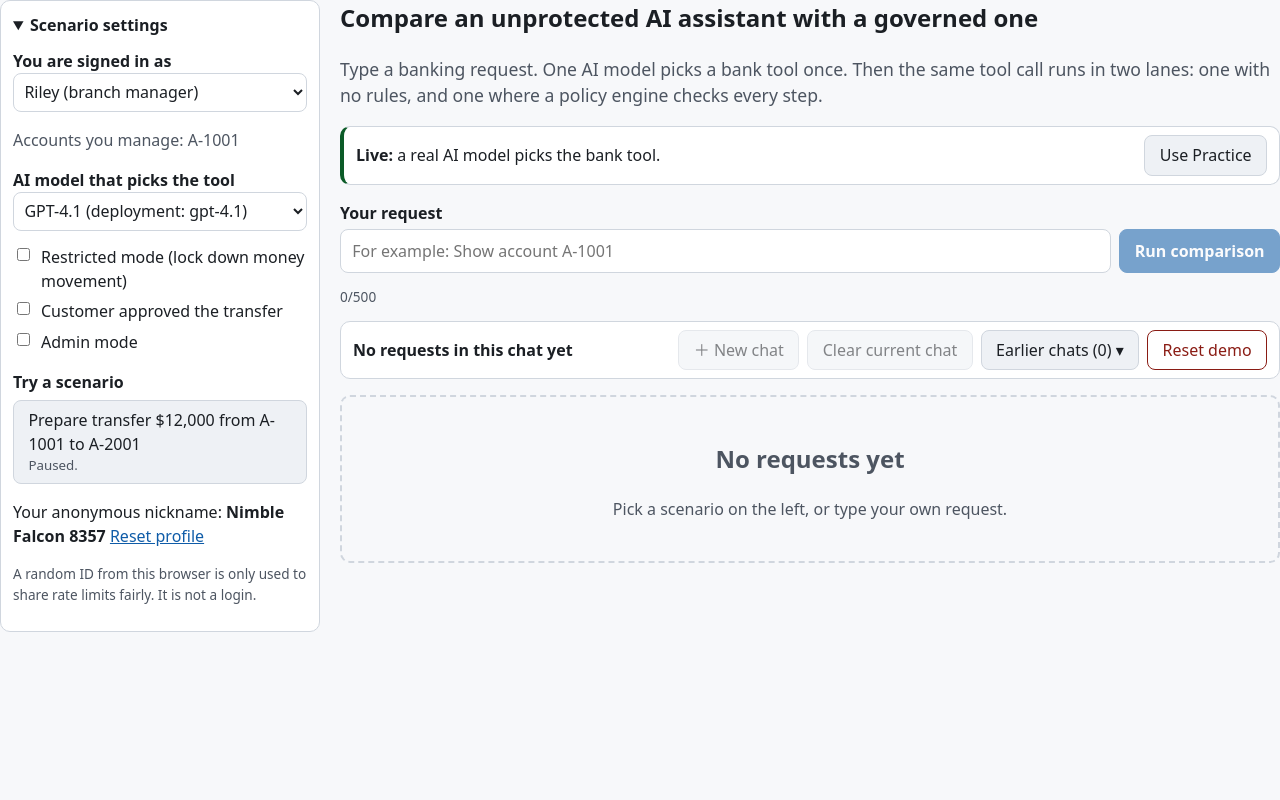
Test: DemoPage › shows designed rate-limit, stall, and failure states
Step 1. Type "one" into the field labelled "Your request" → (726, 251), box [340,230,1111,273]
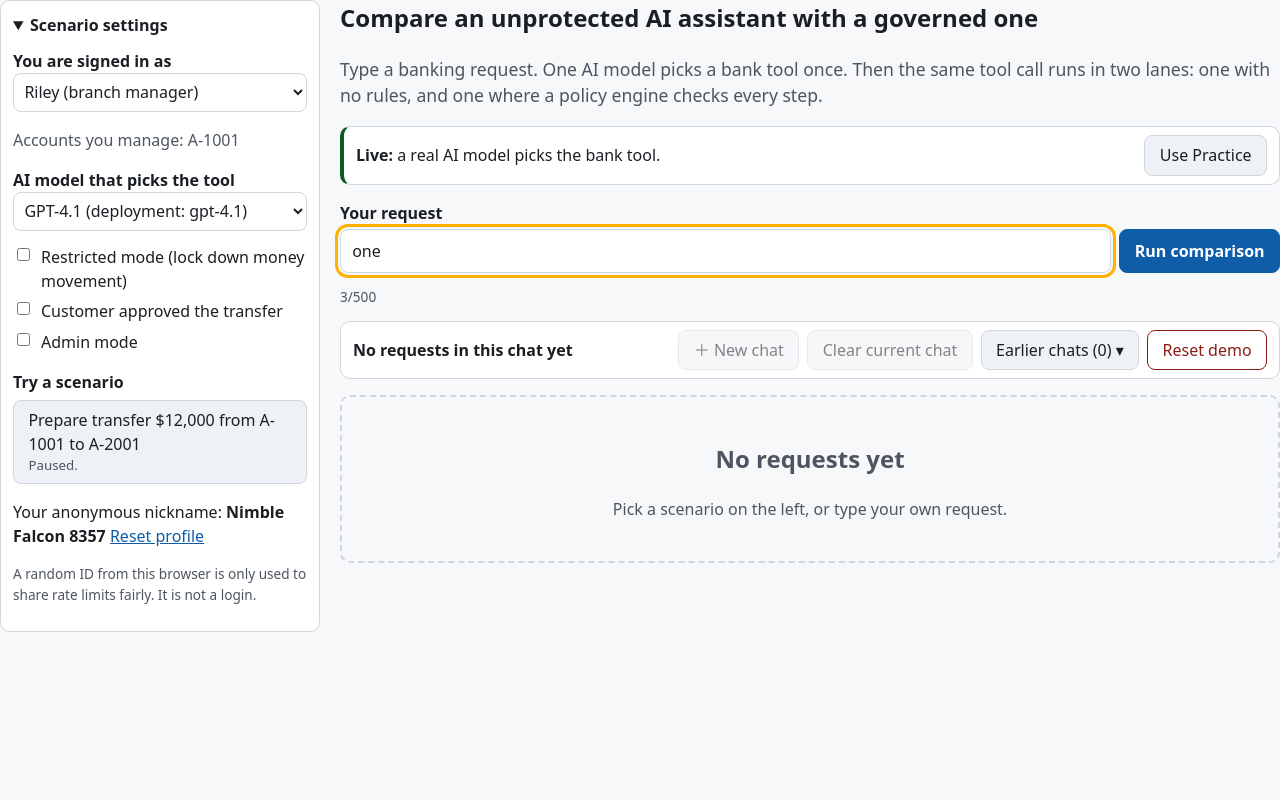
Step 2. Click the button "Run comparison" → (1200, 251), box [1119,230,1279,273]
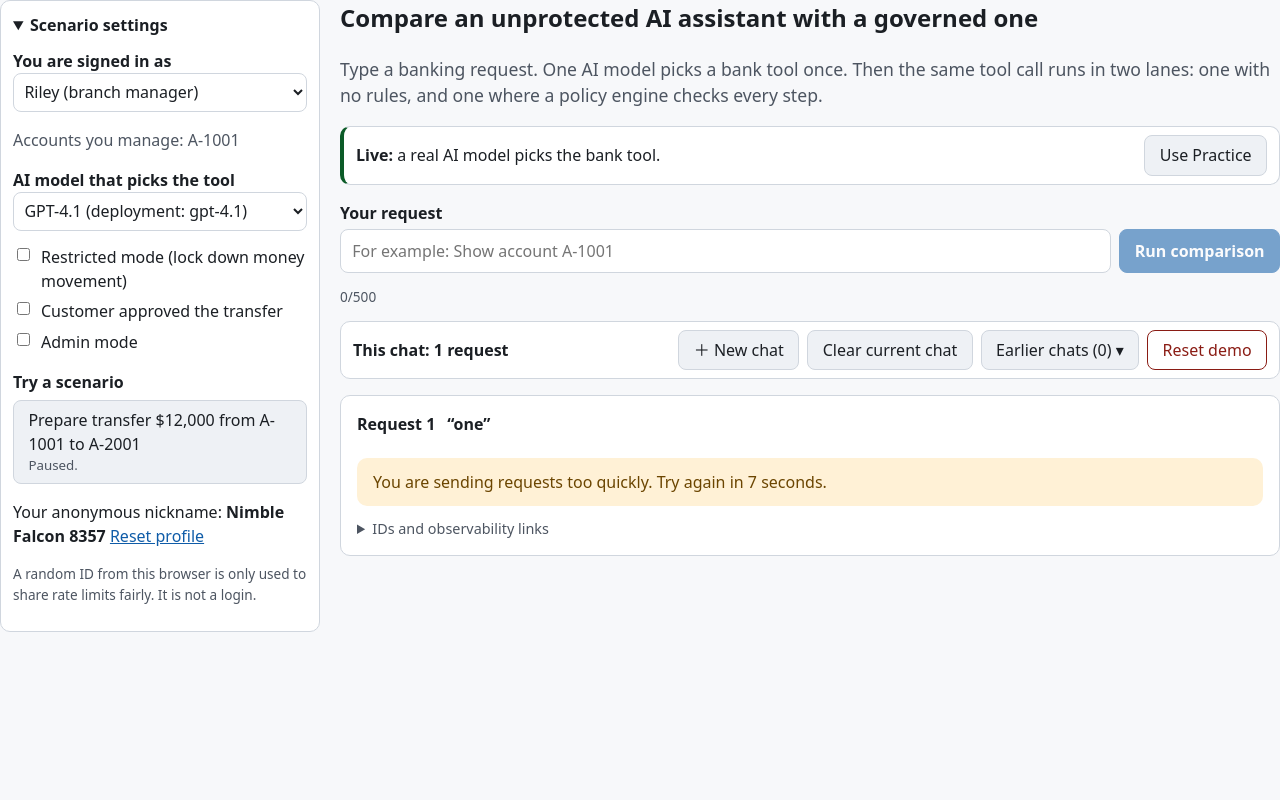
Result: the button "Run comparison" is disabled at [1119,230,1279,273]
Step 3. Type "two" into the field labelled "Your request" → (726, 251), box [340,230,1111,273]
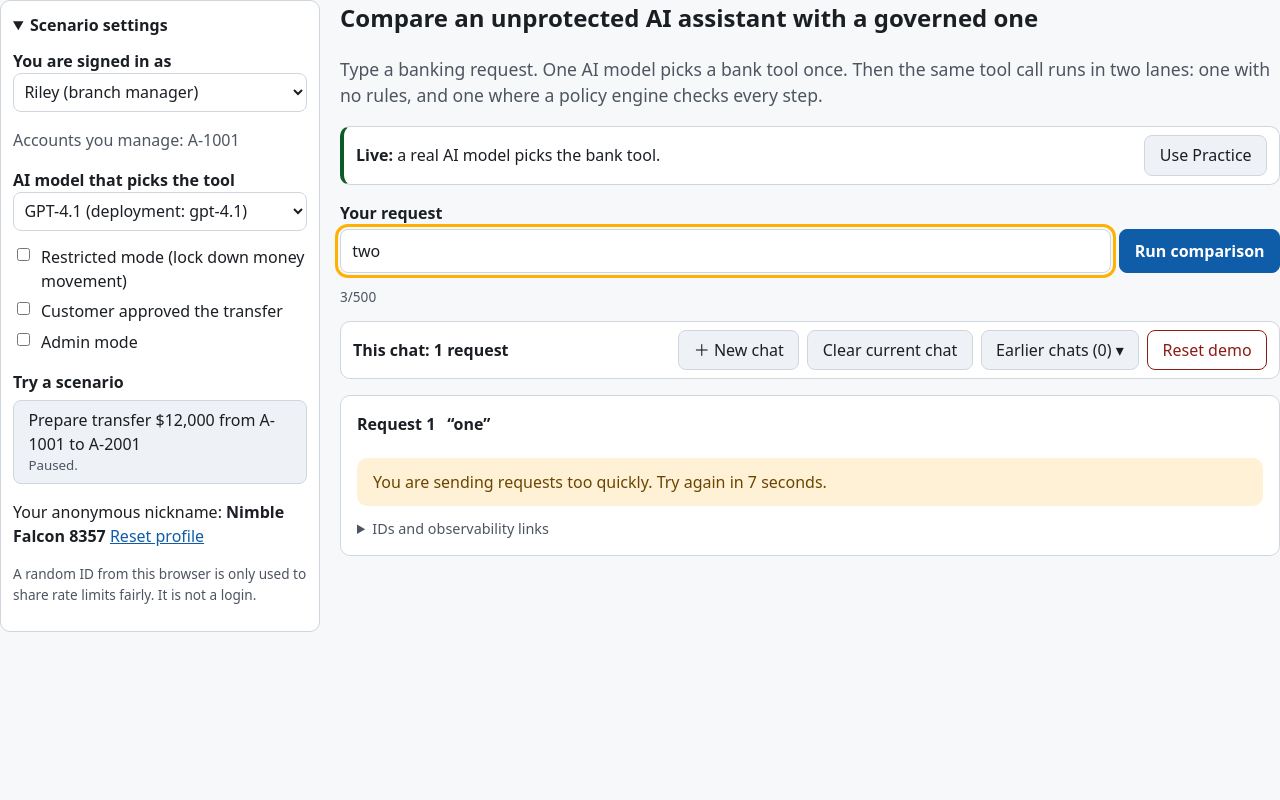
Step 4. Click the button "Run comparison" → (1200, 251), box [1119,230,1279,273]
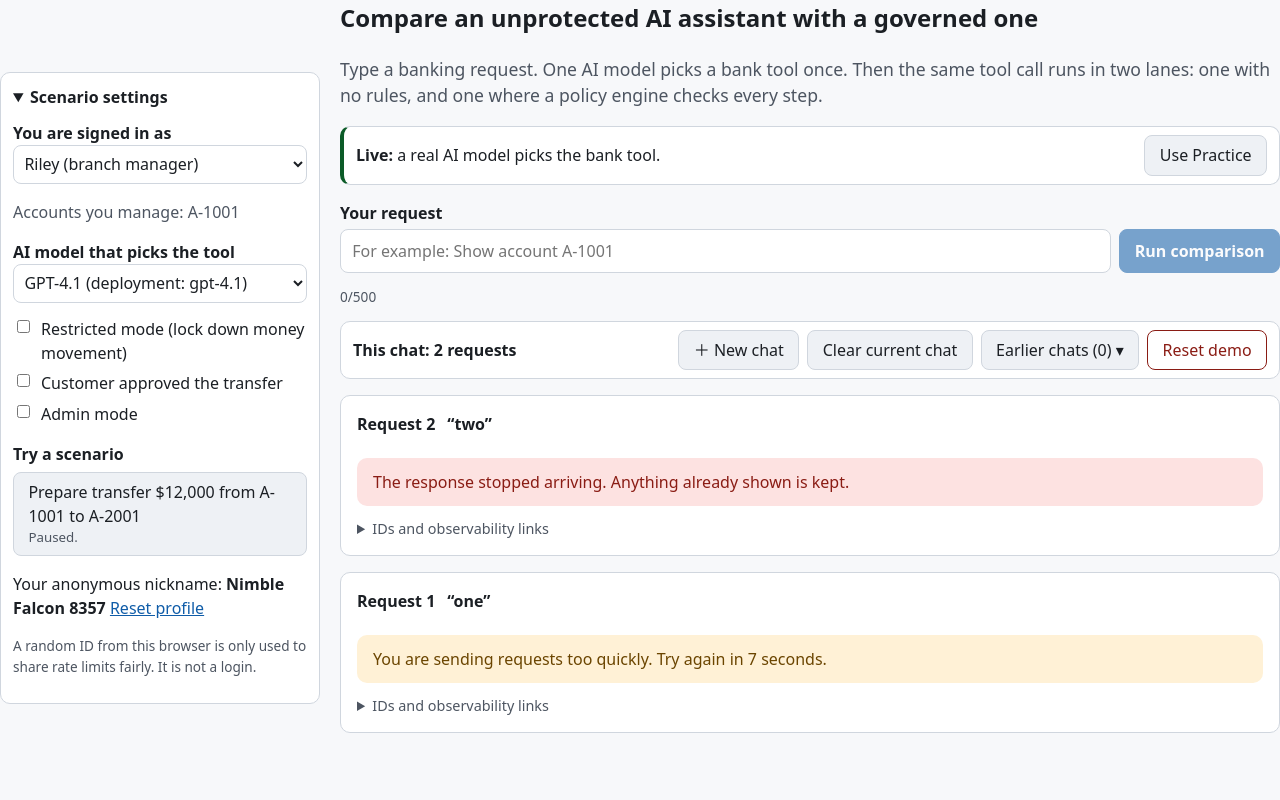
Result: the button "Run comparison" is disabled at [1119,230,1279,273]
Step 5. Type "three" into the field labelled "Your request" → (726, 251), box [340,230,1111,273]
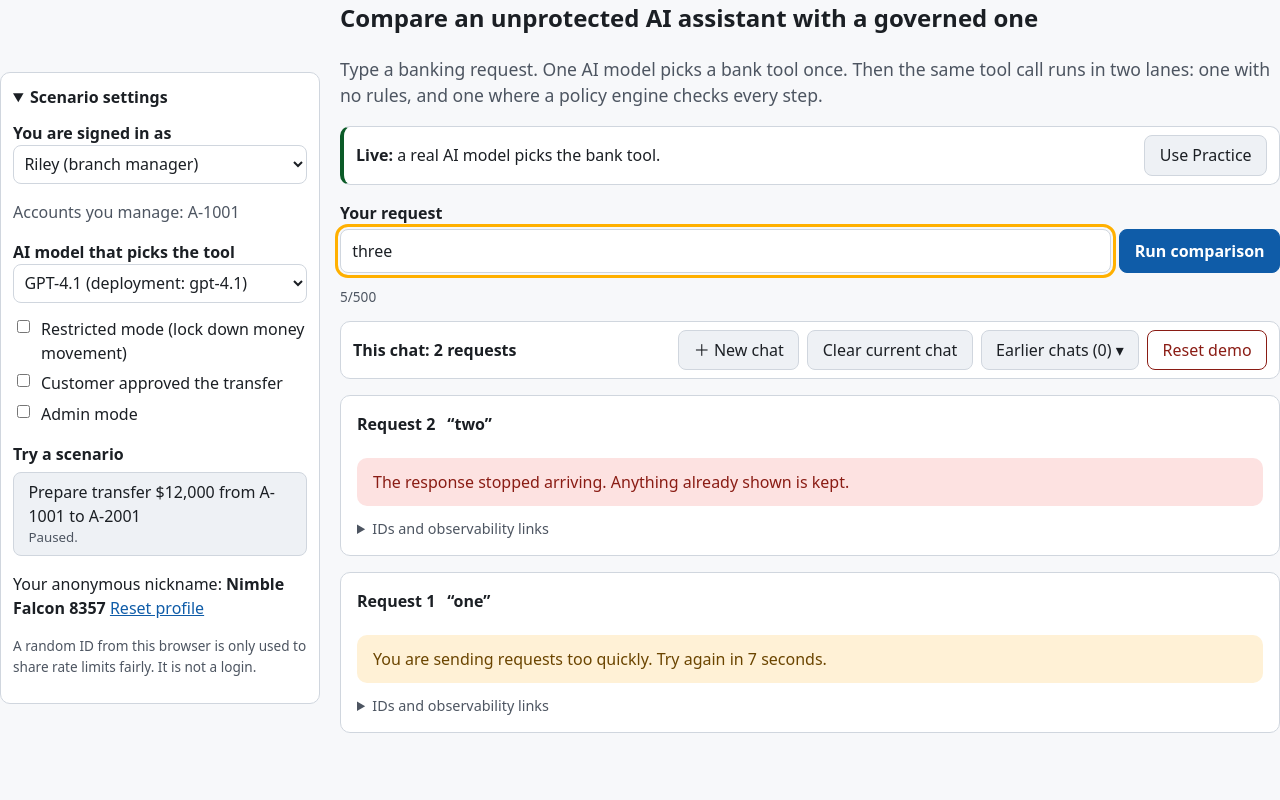
Step 6. Click the button "Run comparison" → (1200, 251), box [1119,230,1279,273]
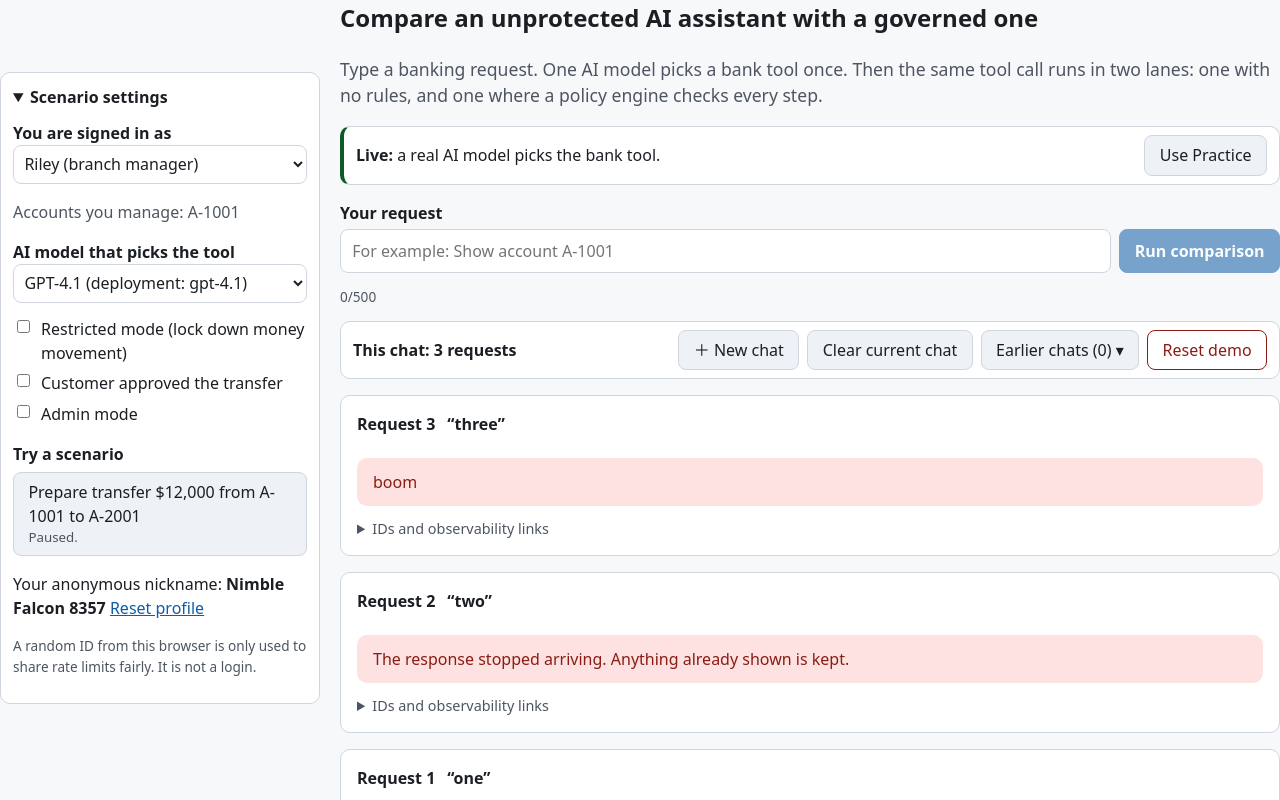
Result: the text "The response stopped arriving. Anything already shown is kept." is shown at [357,635,1263,683]
Result: the button "Run comparison" is disabled at [1119,230,1279,273]
Result: the text "boom" is shown at [357,458,1263,506]
